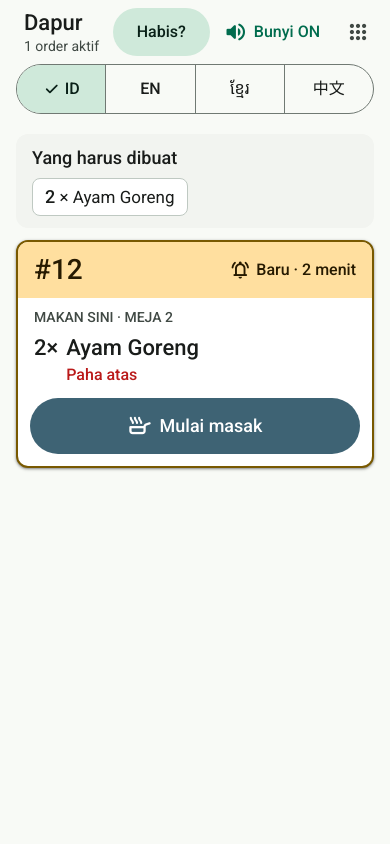
Test: Layar dapur › ganti bahasa layar: UI & nama menu ikut berubah, disimpan di perangkat & akun
Expected: the heading "Dapur" is shown, 24,10 -> 83,35
Expected: the text "Ayam Goreng" is shown, 66,334 -> 199,362
What coordinates should you click on to do the following:
click the radio button labelled "EN"
I would click on:
 (150, 89)
Its box is 105,65 -> 195,113.
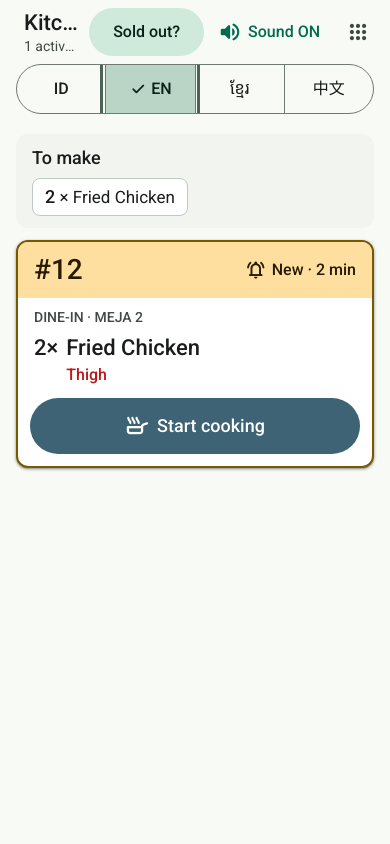
Expected: the heading "Kitchen" is shown, 24,9 -> 81,37
Expected: the text "Fried Chicken" is shown, 66,334 -> 200,362
Expected: the text "Thigh" is shown, 66,365 -> 107,384
What coordinates should you click on to do the following:
click the radio button labelled "ខ្មែរ"
I would click on:
 (239, 89)
Its box is 194,65 -> 284,113.
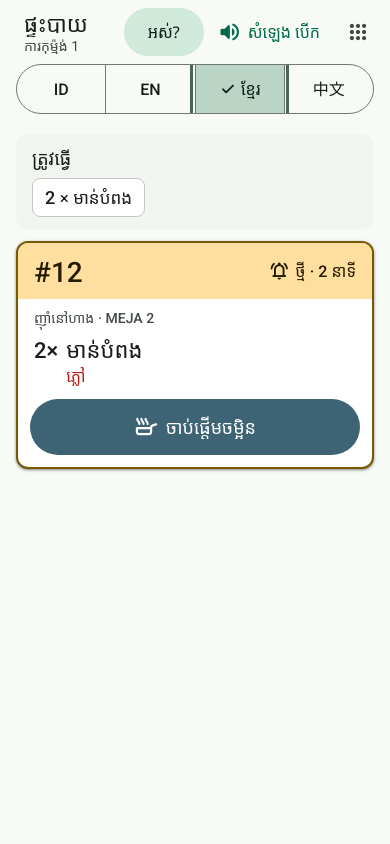
Expected: the text "មាន់បំពង" is shown, 66,335 -> 142,363
Expected: the button "ចាប់ផ្តើមចម្អិន" is shown, 30,399 -> 360,455
What coordinates should you click on to do the following:
click the radio button labelled "中文"
I would click on:
 (328, 89)
Its box is 284,65 -> 373,113.
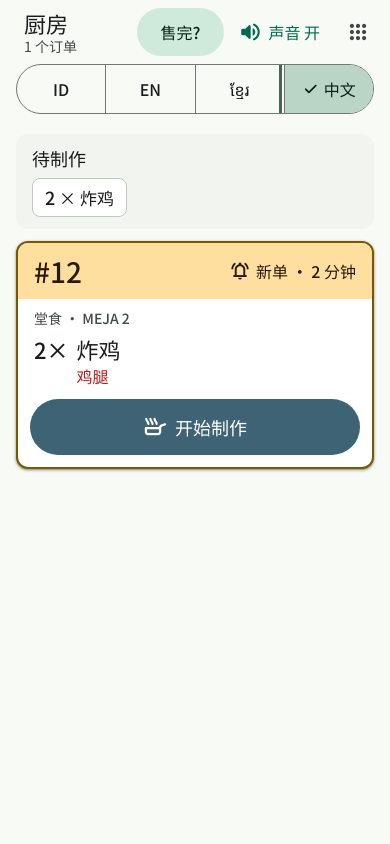
Expected: the text "炸鸡" is shown, 77,335 -> 121,363
